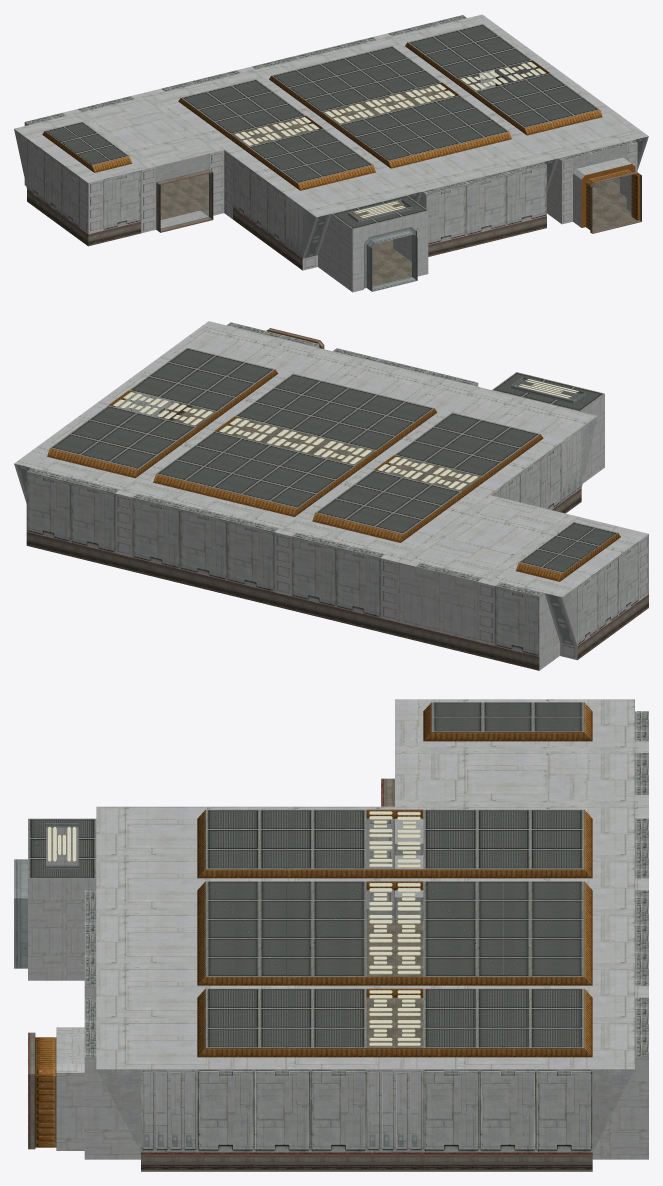
The model's file is mun_all_military_base_police_station_rebl_s01_r10_hall2_mesh_r10.fbx.
3 renders of one model, top to bottom at view 1: azimuth 30°, elevation 25°; view 2: azimuth 150°, elevation 25°; view 3: azimuth 270°, elevation 25°, orthographic. The views are drawn at different scales.
Parts seen in each view (by area): view 1: mesh_node; view 2: mesh_node; view 3: mesh_node.
Boxes of the visible parts, bbox=[...] form: mesh_node: bbox=[14, 14, 648, 292]; mesh_node: bbox=[14, 321, 648, 670]; mesh_node: bbox=[14, 699, 648, 1171].
Size of the model in its own units: 31 by 4.36 by 22.5.
